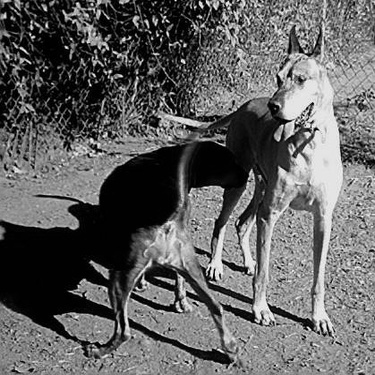dog: (70, 92, 257, 361), (203, 16, 349, 338)
